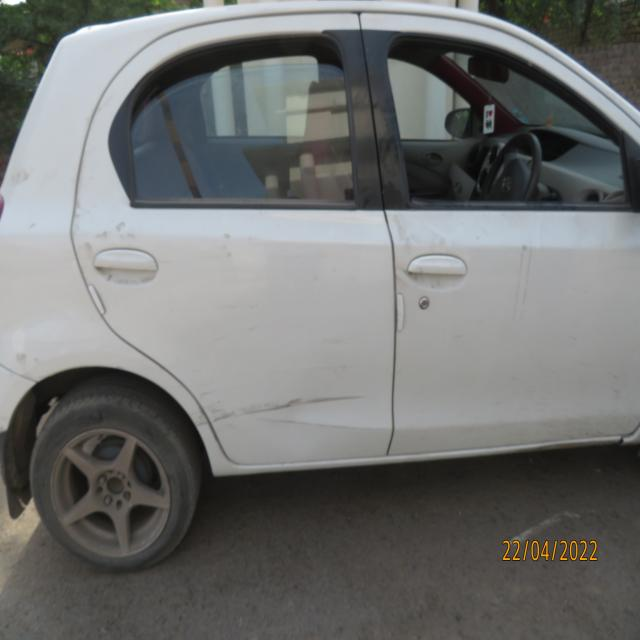damage: (215, 374, 368, 449), (13, 349, 36, 376), (194, 405, 209, 432)
